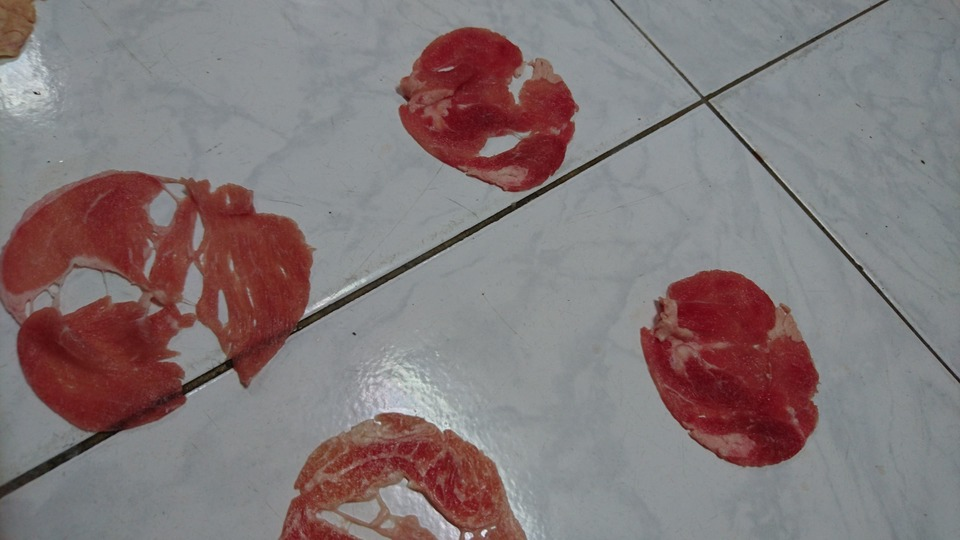restructured meat: (9, 162, 309, 428), (636, 261, 824, 470), (384, 15, 576, 205), (267, 409, 532, 540)
